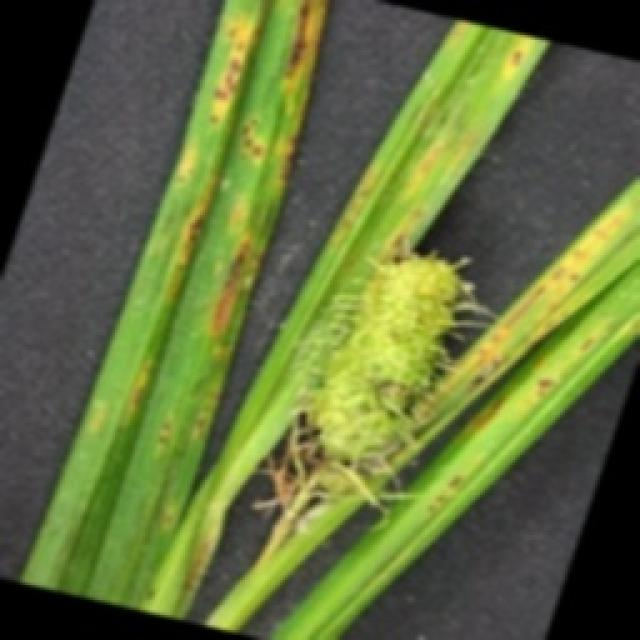Elderberry_rust: (247, 230, 495, 560)
